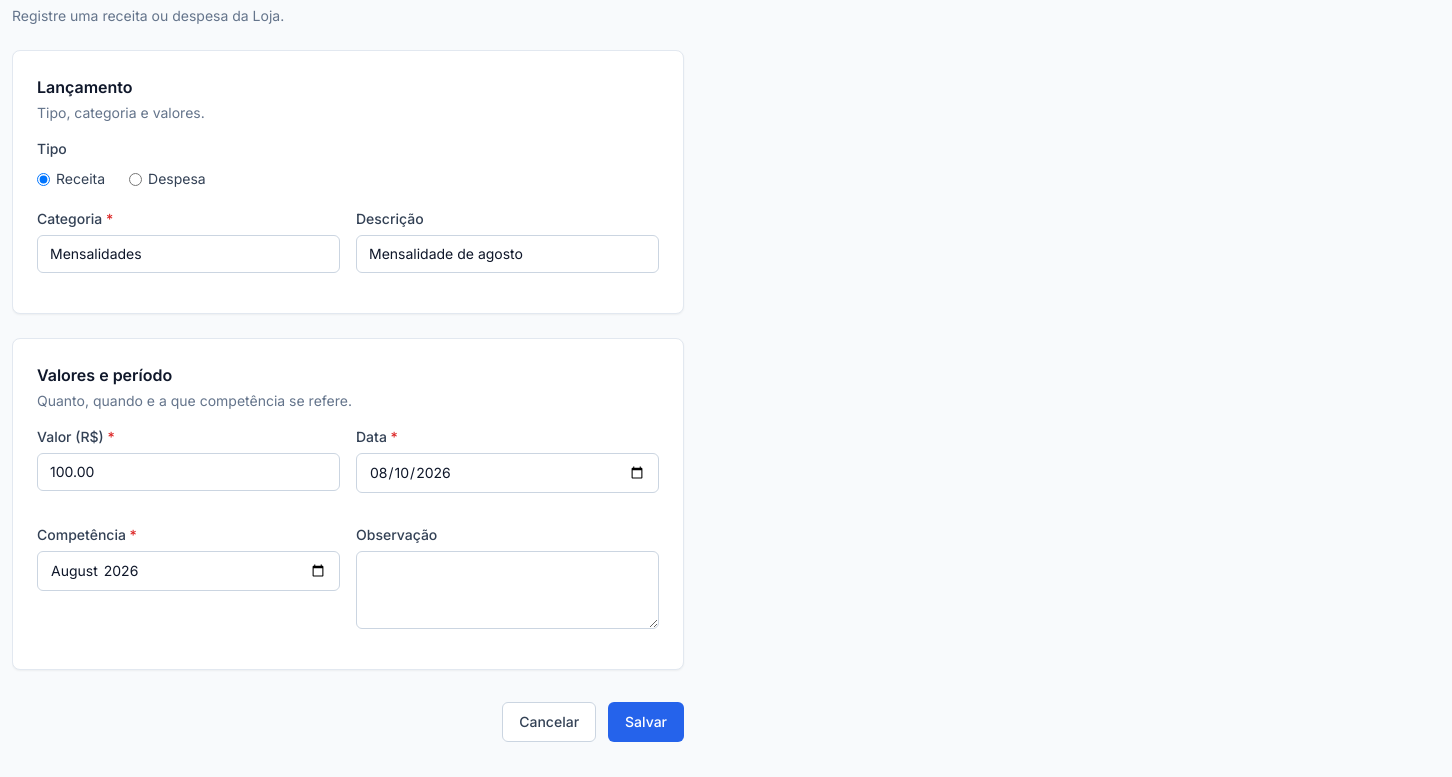
Test: LancamentoFormPage — lançamento gerado por pagamento de cobrança › exibe a mensagem do 409 orientando a usar "Desfazer pagamento"
The width and height of the screenshot is (1452, 777).
Click the button "Salvar".
click(646, 722)  # box [608,702,684,742]
(page scrolled)
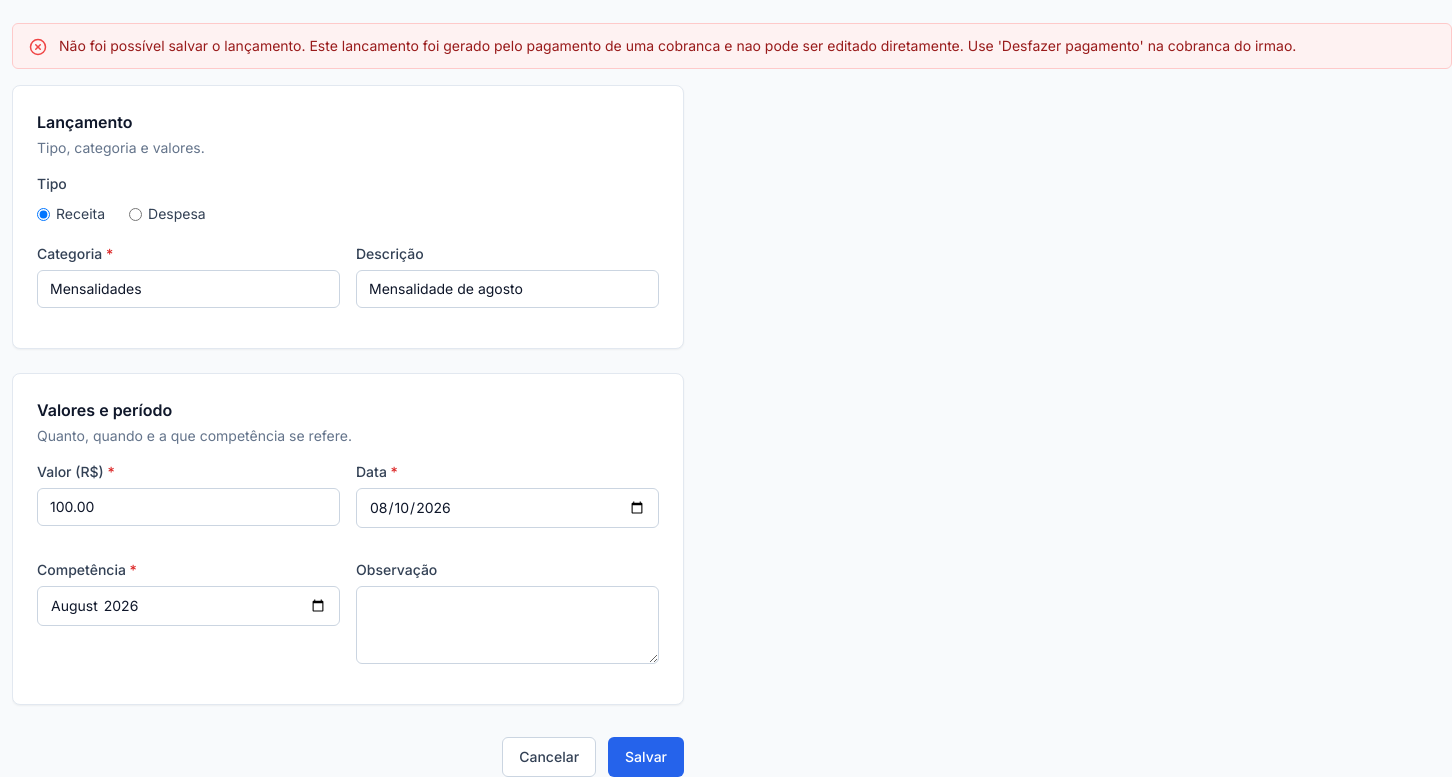
Expected: the button "Salvar" is enabled, [608,737,684,776]
Now the text "Use 'Desfazer pagamento' na cobranca do irmao" is shown, box [309,37,1296,54]
